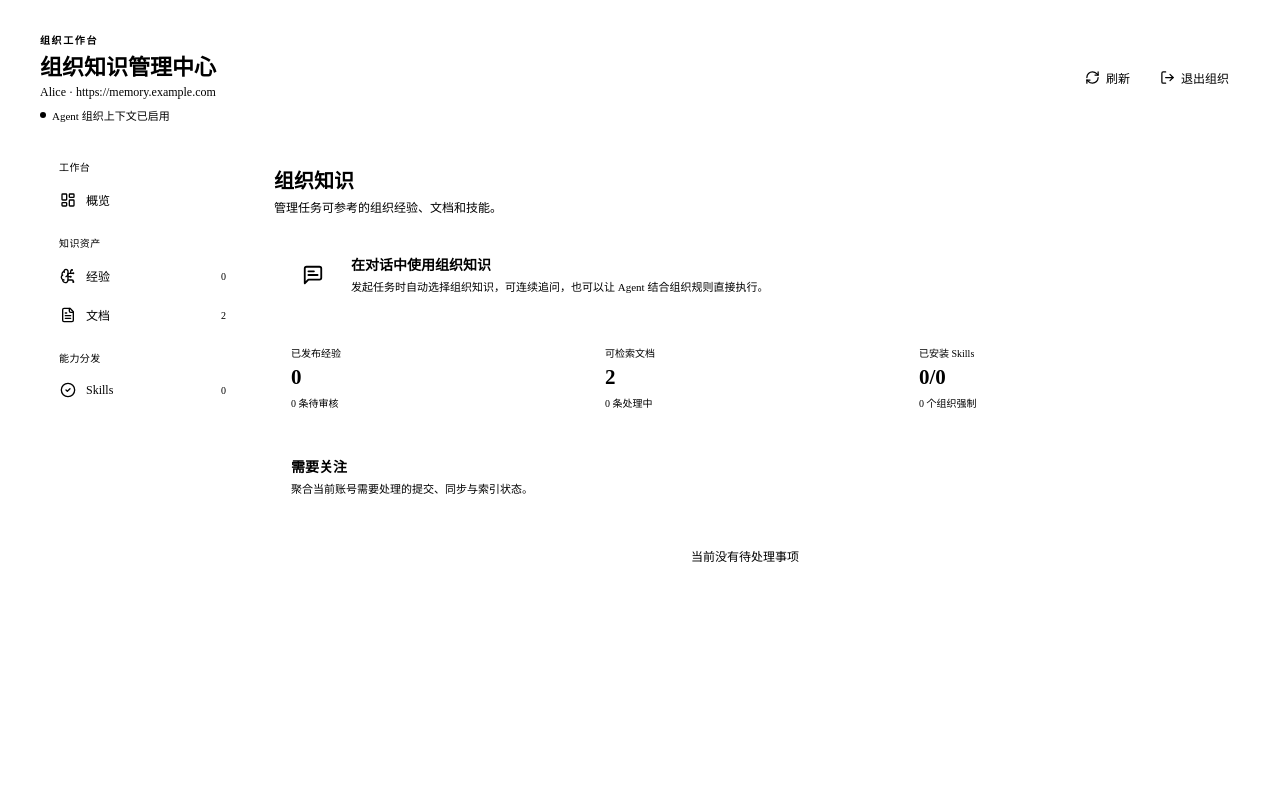
Test: OrganizationMemoryPanel › 注销请求未返回时立即隐藏旧组织数据
Expected: the text "Alice · https://memory.example.com" is shown, [40,85,216,100]
Click the button "退出组织": (1194, 78) [1149,62,1240,94]
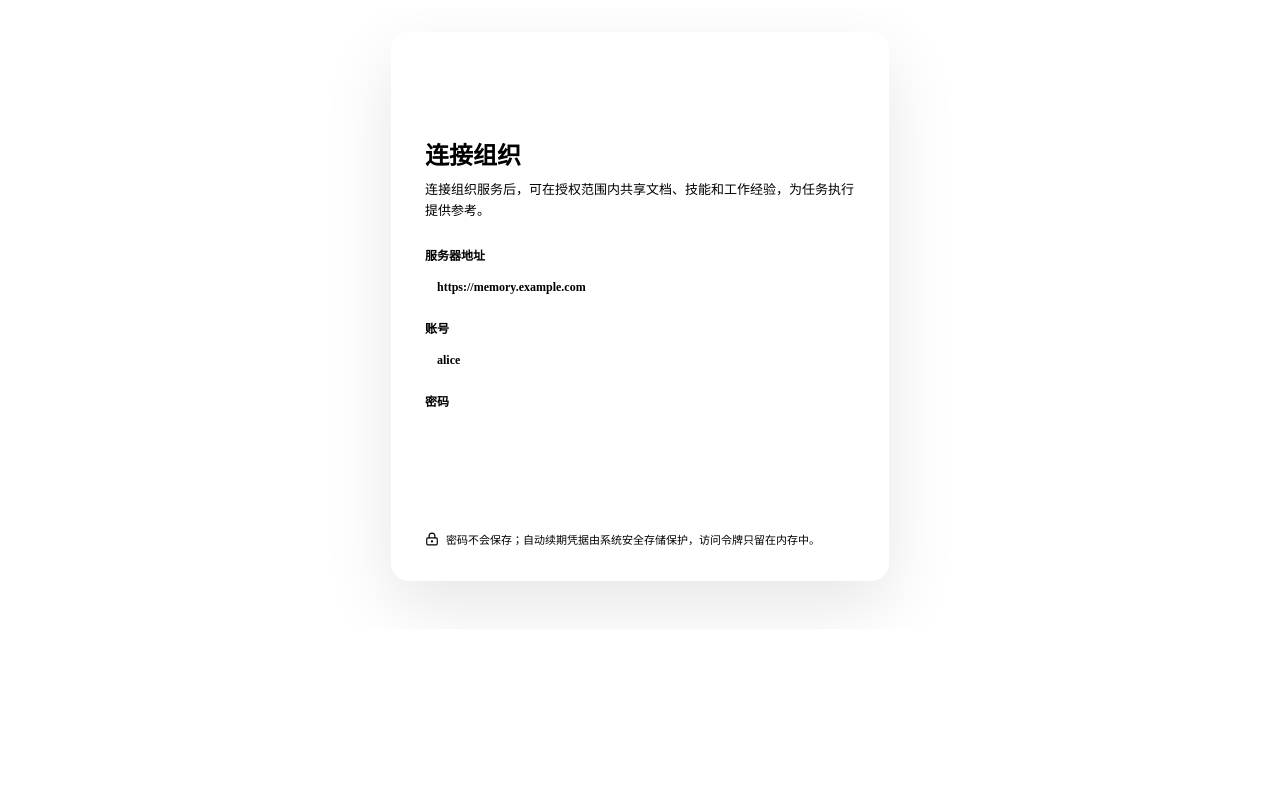
Expected: the heading "连接组织" is shown, [425,143,521,169]
Expected: the text "Alice · https://memory.example.com" is gone
Expected: the field labelled "服务器地址" holds "https://memory.example.com", [425,270,855,305]
